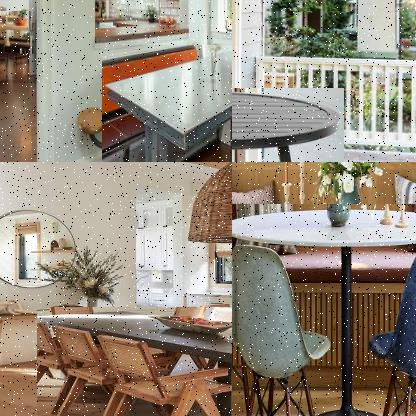table: (232, 204, 415, 415), (37, 307, 231, 415), (102, 45, 231, 161), (232, 88, 346, 161), (0, 10, 37, 56)
